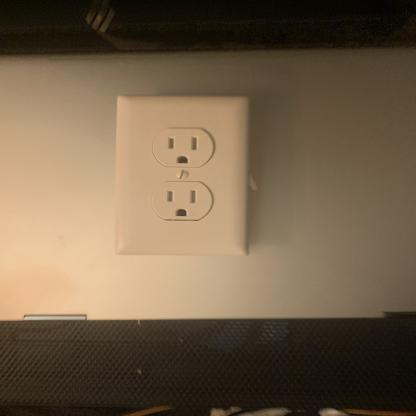OUTLET: (114, 93, 250, 258)
